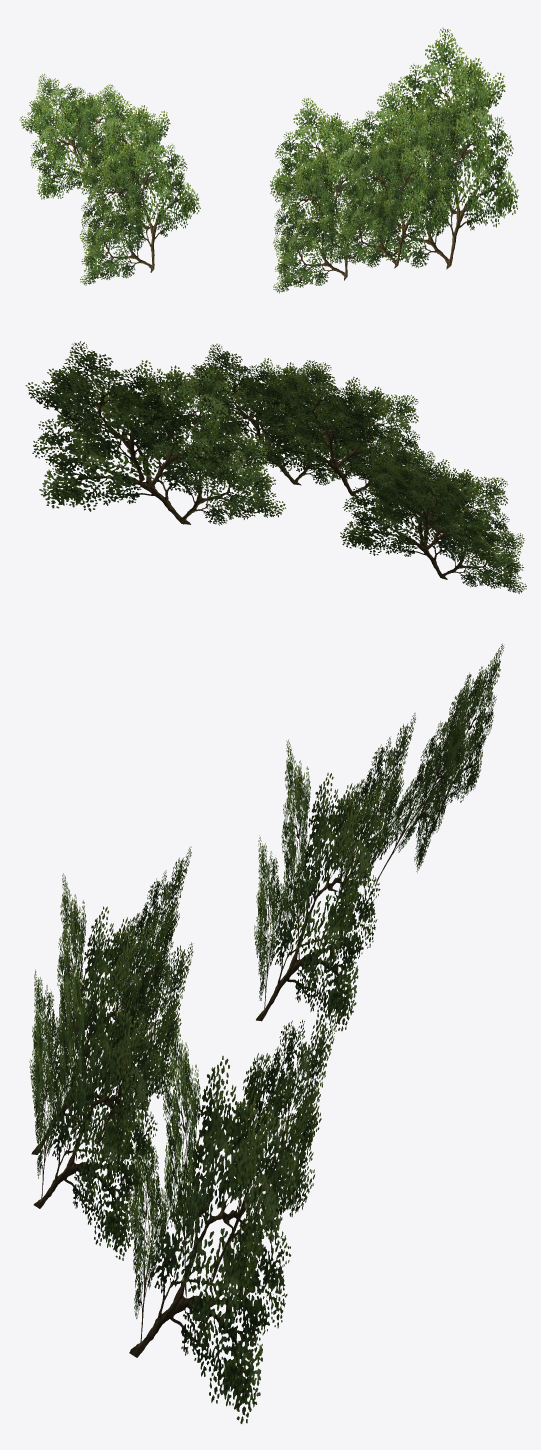
The model's file is M1_P_zhuguan01.FBX.
The picture shows the model from 3 angles, top to bottom: view 1: azimuth 30°, elevation 25°; view 2: azimuth 150°, elevation 25°; view 3: azimuth 270°, elevation 25°; orthographic projection. The views are drawn at different scales.
Parts seen in each view (by area): view 1: M1_P_zhuguan01, M1_P_zhuguan05, M1_P_zhuguan04, M1_P_zhuguan03, M1_P_zhuguan02; view 2: M1_P_zhuguan01, M1_P_zhuguan03, M1_P_zhuguan05, M1_P_zhuguan04, M1_P_zhuguan02; view 3: M1_P_zhuguan01, M1_P_zhuguan04, M1_P_zhuguan05, M1_P_zhuguan03, M1_P_zhuguan02.
Boxes of the visible parts, x1=… form: M1_P_zhuguan01: x1=362, y1=27, x2=518, y2=269; M1_P_zhuguan05: x1=76, y1=90, x2=200, y2=285; M1_P_zhuguan04: x1=328, y1=82, x2=449, y2=268; M1_P_zhuguan03: x1=270, y1=97, x2=387, y2=293; M1_P_zhuguan02: x1=19, y1=73, x2=132, y2=199; M1_P_zhuguan01: x1=25, y1=341, x2=286, y2=525; M1_P_zhuguan03: x1=251, y1=360, x2=434, y2=504; M1_P_zhuguan05: x1=340, y1=442, x2=526, y2=593; M1_P_zhuguan04: x1=177, y1=343, x2=370, y2=485; M1_P_zhuguan02: x1=368, y1=458, x2=492, y2=554; M1_P_zhuguan01: x1=127, y1=994, x2=336, y2=1423; M1_P_zhuguan04: x1=31, y1=928, x2=193, y2=1260; M1_P_zhuguan05: x1=254, y1=713, x2=415, y2=1031; M1_P_zhuguan03: x1=29, y1=846, x2=191, y2=1161; M1_P_zhuguan02: x1=376, y1=643, x2=504, y2=882.
Size of the model in its own units: 3617 by 1569 by 1627.
